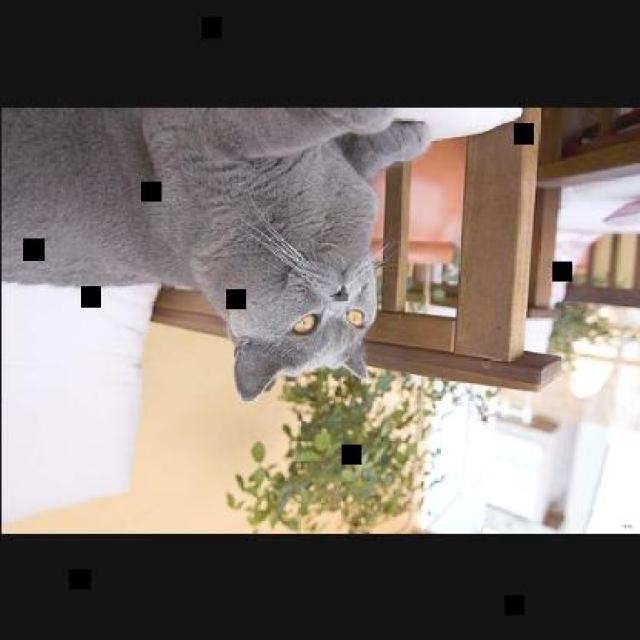unauthorized: (0, 106, 432, 400)
